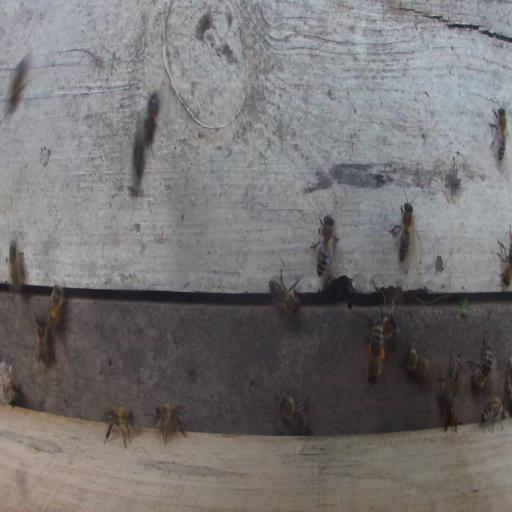nonpollenbee: (387, 184, 426, 266), (309, 214, 341, 280), (267, 266, 303, 319), (435, 344, 464, 407), (278, 386, 312, 437), (488, 93, 512, 164), (465, 332, 493, 391), (151, 400, 187, 445), (100, 404, 135, 450), (401, 335, 433, 383), (364, 299, 397, 345), (495, 223, 512, 295), (35, 313, 56, 369), (48, 282, 69, 333), (7, 237, 26, 293), (143, 88, 160, 149), (480, 396, 507, 434), (445, 402, 460, 433)
pollen: (366, 344, 372, 357), (381, 347, 384, 360)
pollenbee: (365, 323, 385, 386)
